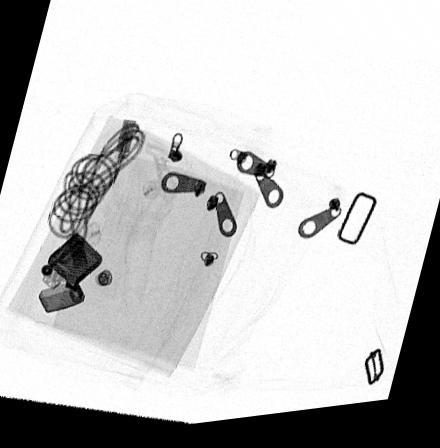Lighter: (38, 234, 102, 315)
